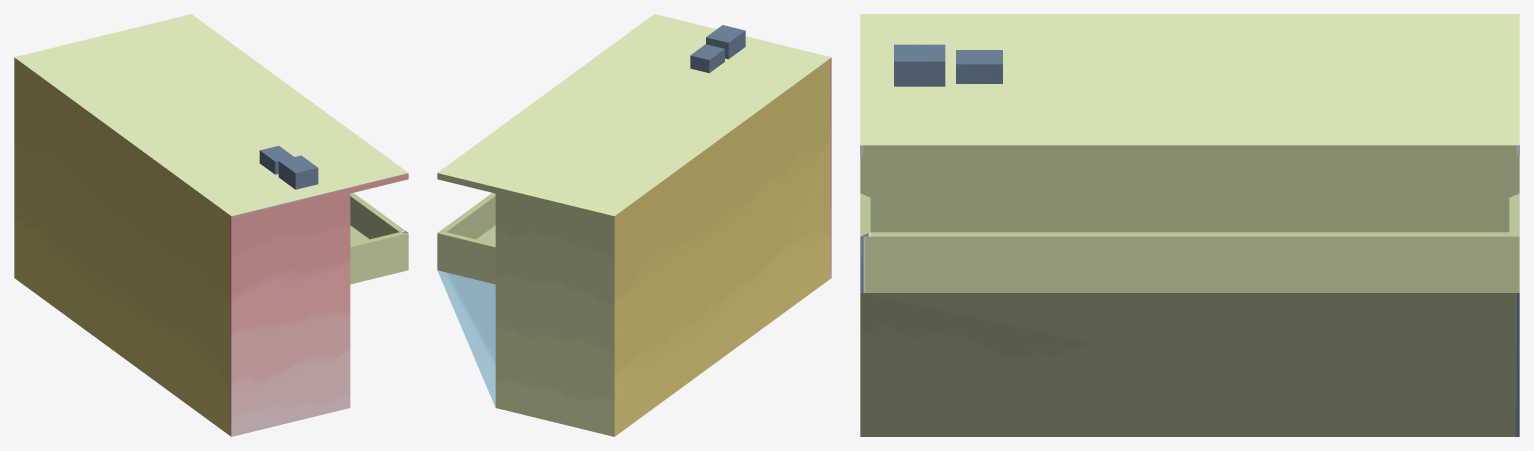
Rendered from boutiks_kenza.fbx.
3 renders of one model, left to right at view 1: azimuth 30°, elevation 25°; view 2: azimuth 150°, elevation 25°; view 3: azimuth 270°, elevation 25°, orthographic. The views are drawn at different scales.
Parts seen in each view (by area): view 1: boutik_kenza; view 2: boutik_kenza; view 3: boutik_kenza.
Boxes of the visible parts, box(x1,y1,x2,y2) form: boutik_kenza: box(14, 14, 408, 436); boutik_kenza: box(437, 14, 831, 436); boutik_kenza: box(860, 14, 1519, 436).
Bounding box in the file's own units: 309 × 395 × 655.
